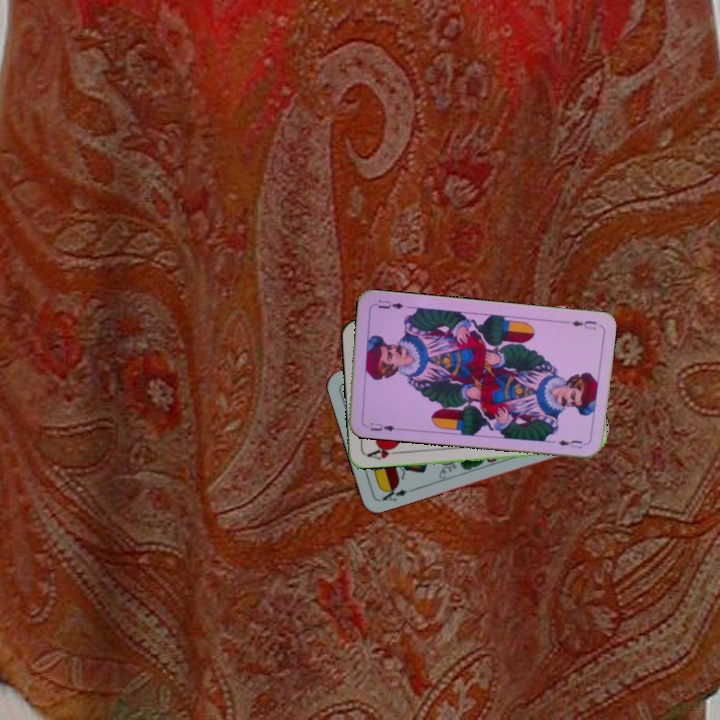EA: (376, 482, 415, 504)
EU: (360, 418, 401, 434), (568, 316, 599, 332)
HA: (363, 442, 403, 462)
